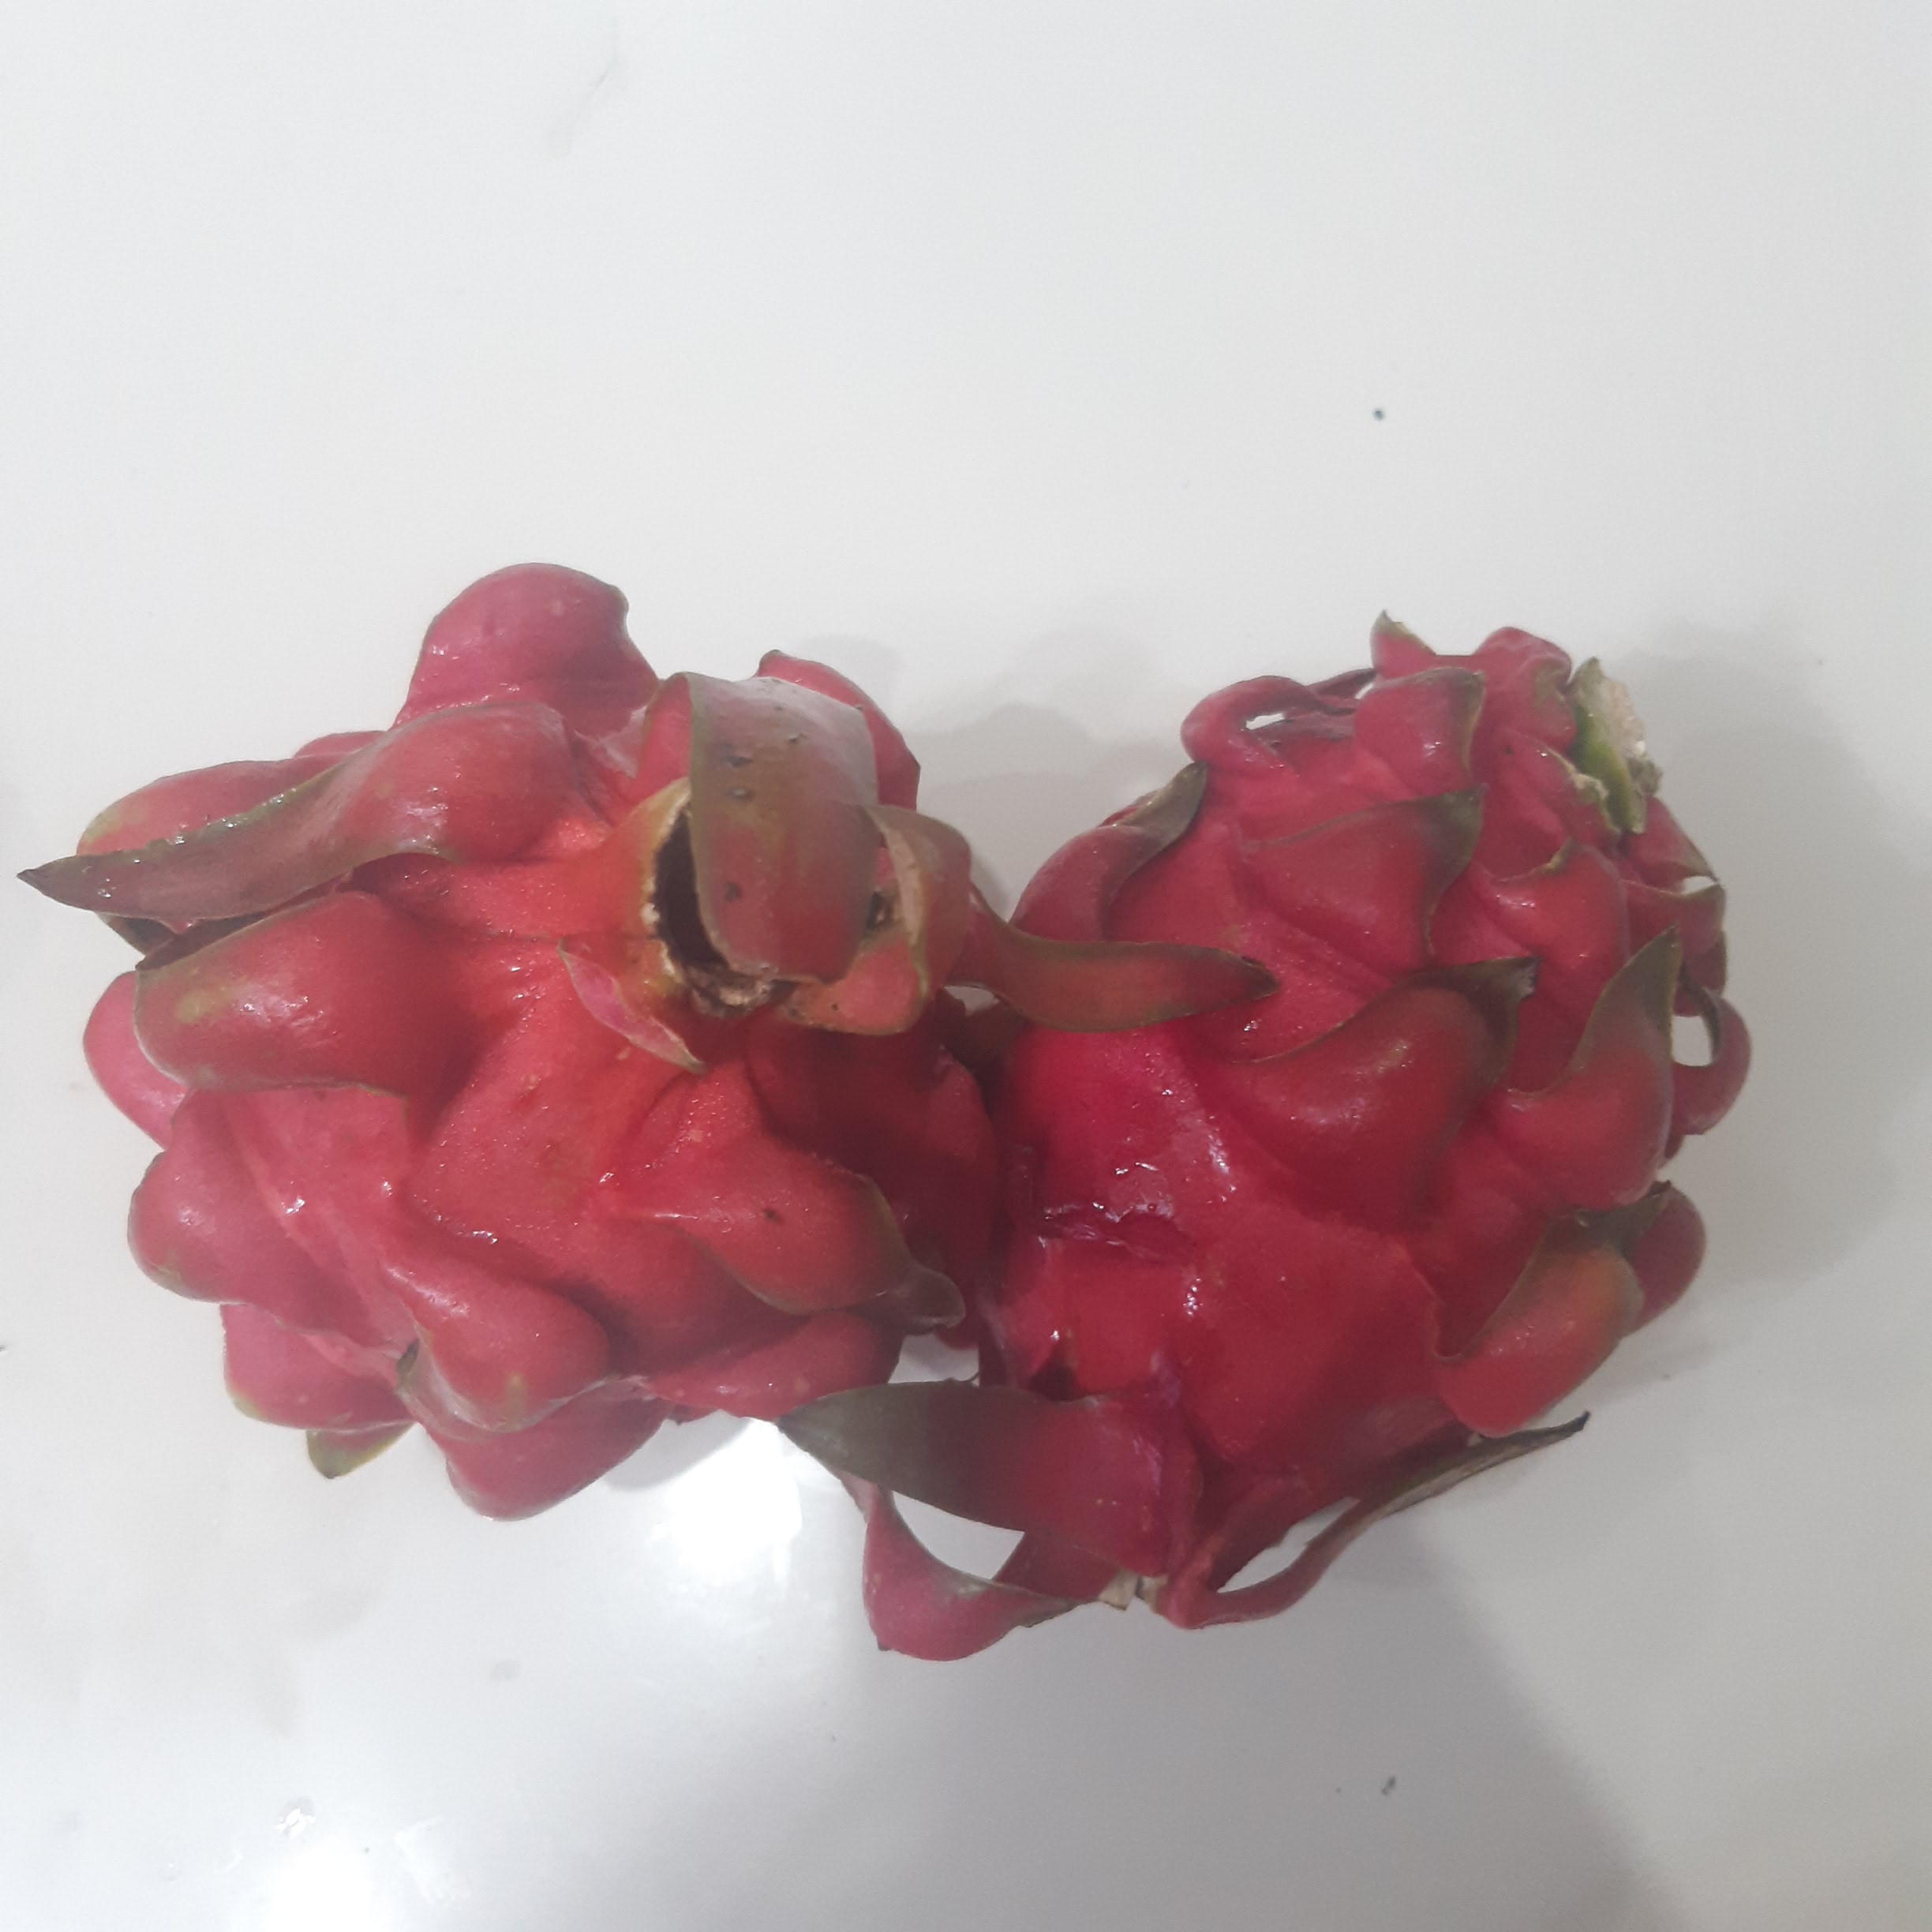Thanh long: (914, 616, 1736, 1627), (95, 700, 987, 1455)
